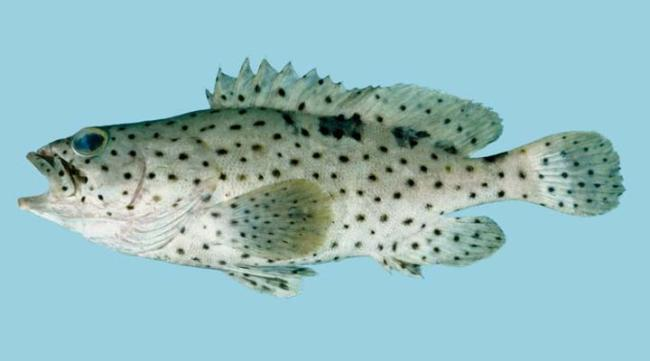fish: (18, 57, 626, 298)
